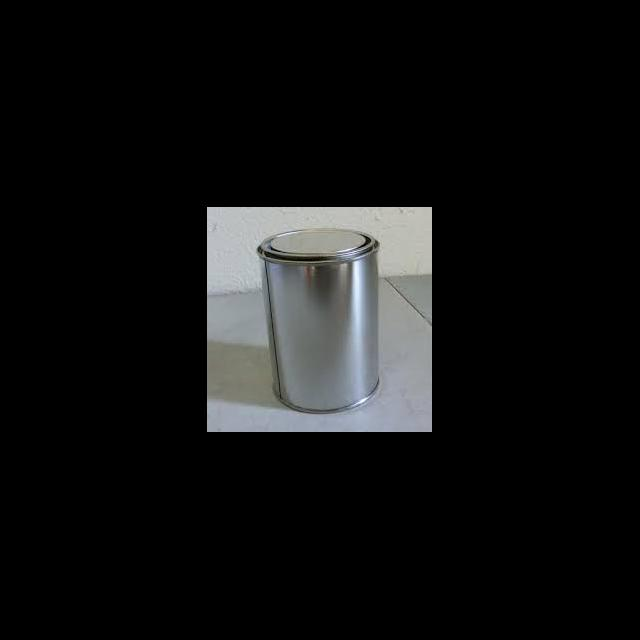metal: (256, 227, 380, 413)
